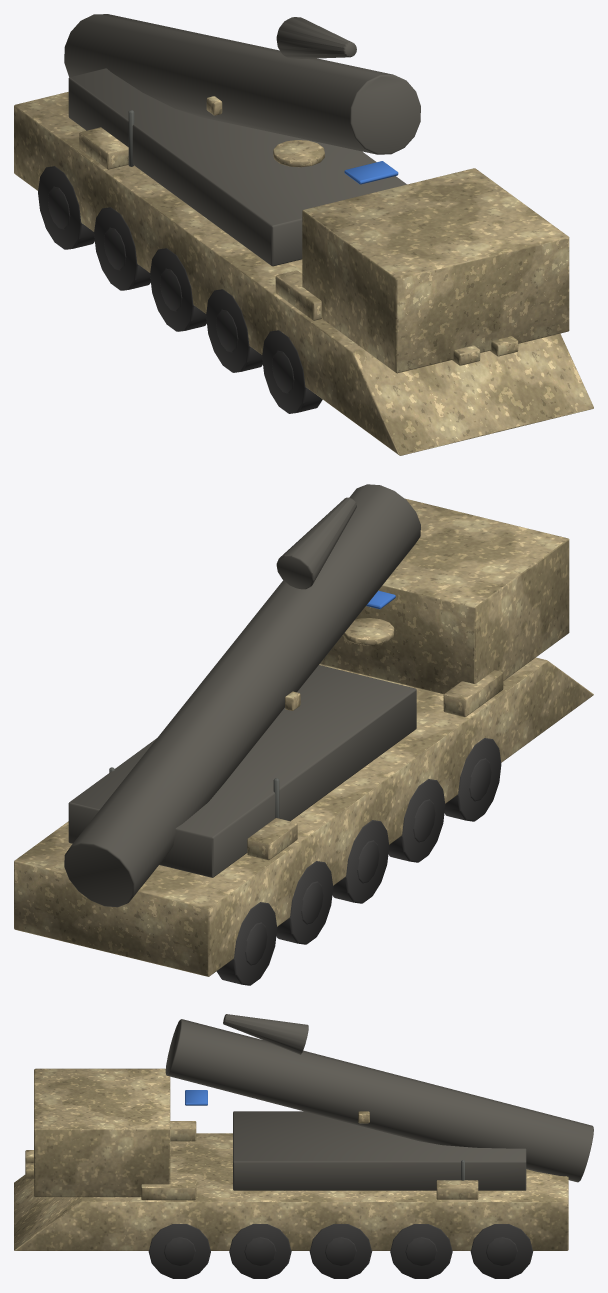
The model's file is msl_e4_us_ballistic_LOD0.glb.
3 views of the same model, one above another, from view 1: azimuth 30°, elevation 25°; view 2: azimuth 150°, elevation 25°; view 3: azimuth 270°, elevation 25° (orthographic). The views are drawn at different scales.
Visible parts, largest first — view 1: msl_e4_us_ballistic_LOD0_body, msl_e4_us_ballistic_LOD0_deck, msl_e4_us_ballistic_LOD0_track, msl_e4_us_ballistic_LOD0_team; view 2: msl_e4_us_ballistic_LOD0_body, msl_e4_us_ballistic_LOD0_deck, msl_e4_us_ballistic_LOD0_track; view 3: msl_e4_us_ballistic_LOD0_body, msl_e4_us_ballistic_LOD0_deck, msl_e4_us_ballistic_LOD0_track, msl_e4_us_ballistic_LOD0_team.
Part boxes in pixels (x1,y1,x2,y2): msl_e4_us_ballistic_LOD0_body: (14,92,593,455); msl_e4_us_ballistic_LOD0_deck: (64,14,420,266); msl_e4_us_ballistic_LOD0_track: (38,166,322,413); msl_e4_us_ballistic_LOD0_team: (344,161,398,184); msl_e4_us_ballistic_LOD0_body: (14,498,593,976); msl_e4_us_ballistic_LOD0_deck: (64,484,420,907); msl_e4_us_ballistic_LOD0_track: (216,738,501,985); msl_e4_us_ballistic_LOD0_body: (14,1068,568,1250); msl_e4_us_ballistic_LOD0_deck: (165,1014,593,1190); msl_e4_us_ballistic_LOD0_track: (148,1224,533,1278); msl_e4_us_ballistic_LOD0_team: (185,1090,207,1105).
Size of the model in its own units: 3.14 by 4.85 by 11.07.
5 materials, 1 textured.
